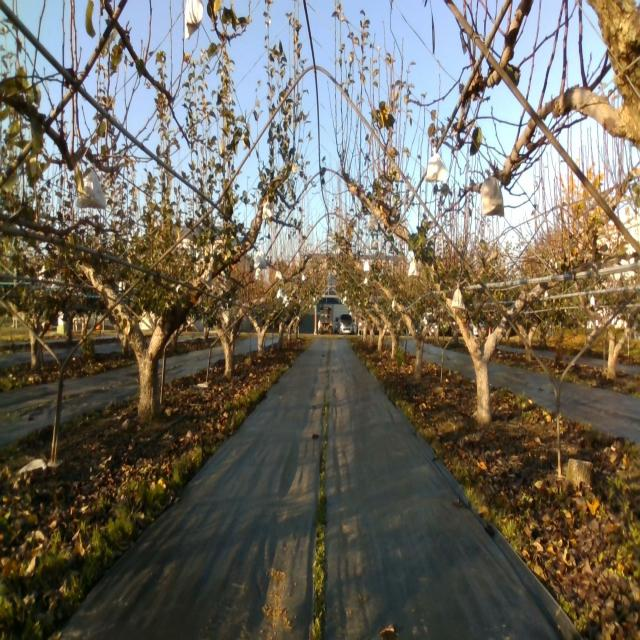pearbags: (75, 160, 108, 211), (481, 174, 506, 218), (182, 0, 204, 41), (425, 150, 446, 183), (254, 241, 267, 271), (199, 266, 214, 290), (451, 288, 466, 310), (408, 255, 419, 276), (366, 212, 378, 229), (262, 200, 272, 220)
